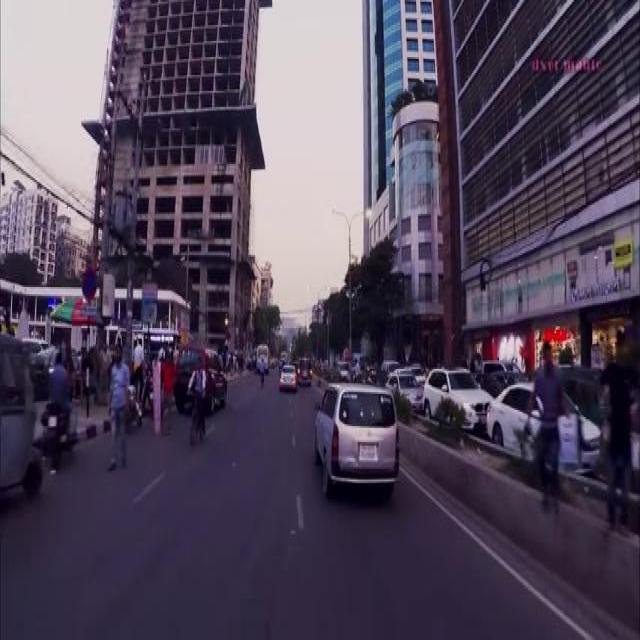10: (44, 391, 74, 464), (184, 388, 206, 445)
15: (422, 365, 490, 425), (171, 341, 227, 406)
17: (0, 331, 41, 491)
19: (297, 356, 311, 380)
5: (484, 380, 600, 470), (311, 381, 399, 491), (384, 370, 422, 405), (278, 362, 296, 385)
Truck: (254, 341, 268, 367)
